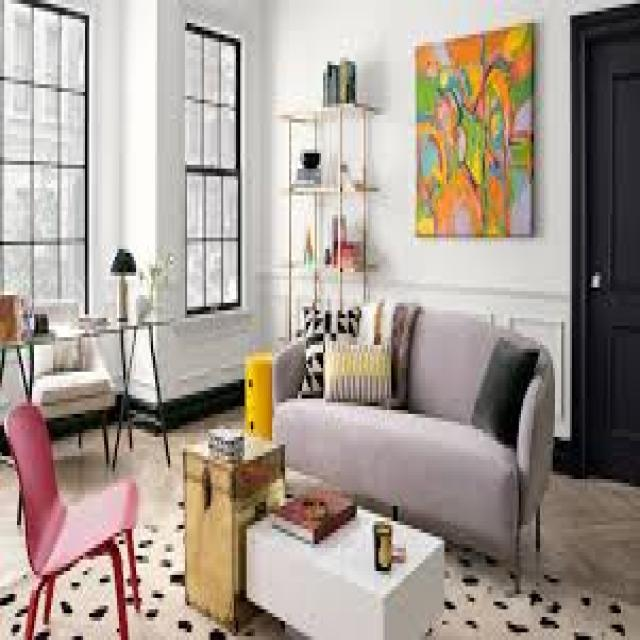Chair: (5, 396, 150, 636)
Sofa: (250, 273, 555, 560)
Table: (177, 410, 440, 640), (0, 310, 188, 490)
